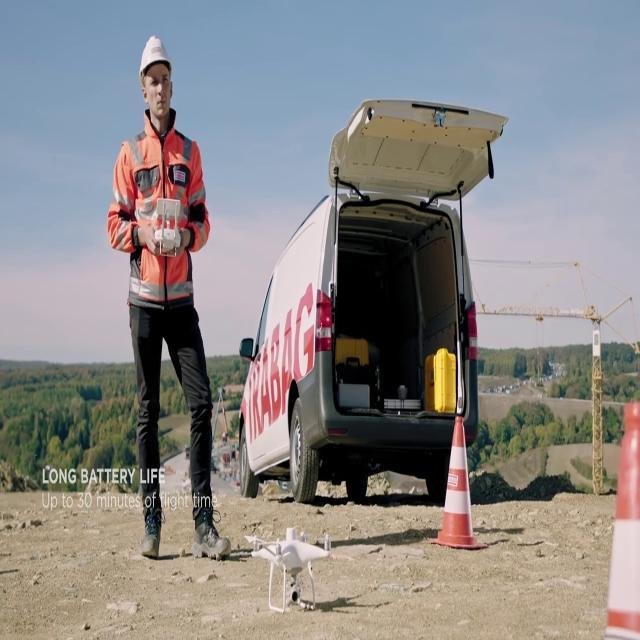drone: (243, 524, 341, 616)
